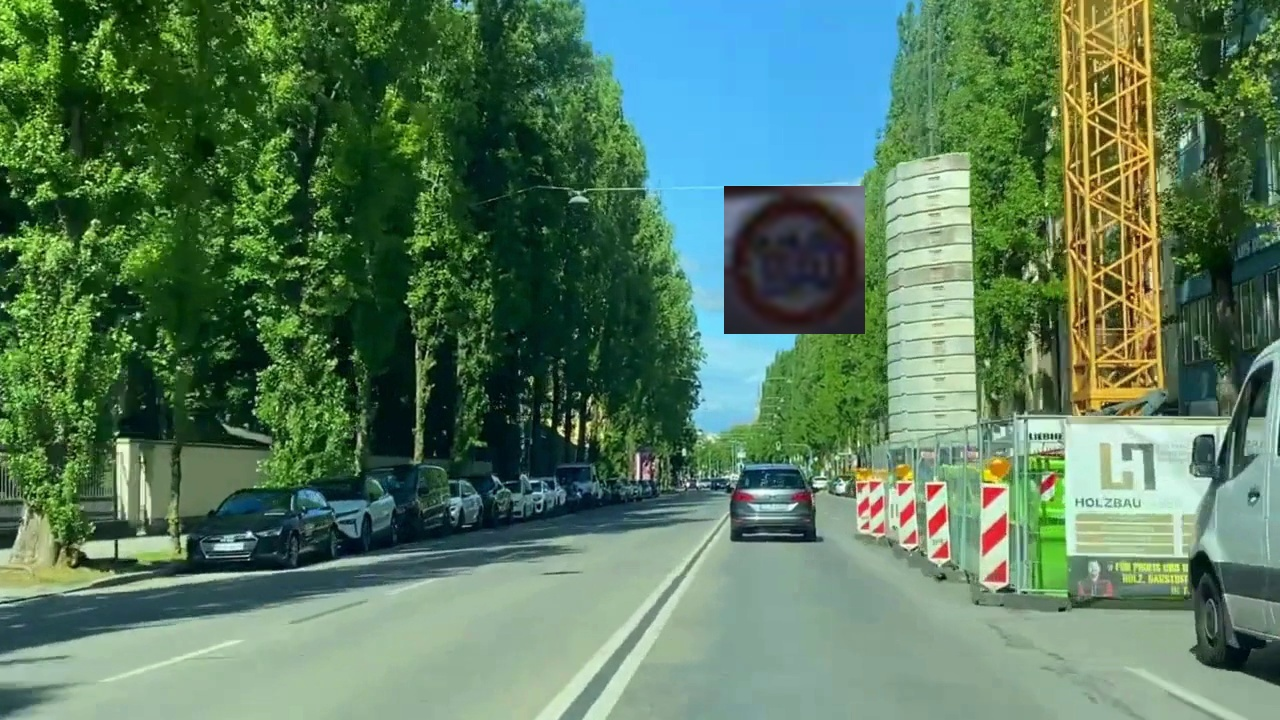Speed 100: (724, 186, 865, 334)
